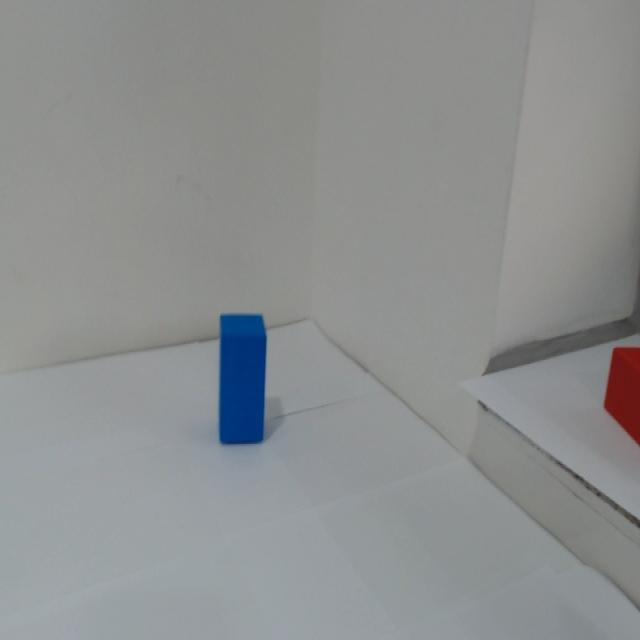cube: (207, 304, 284, 468)
